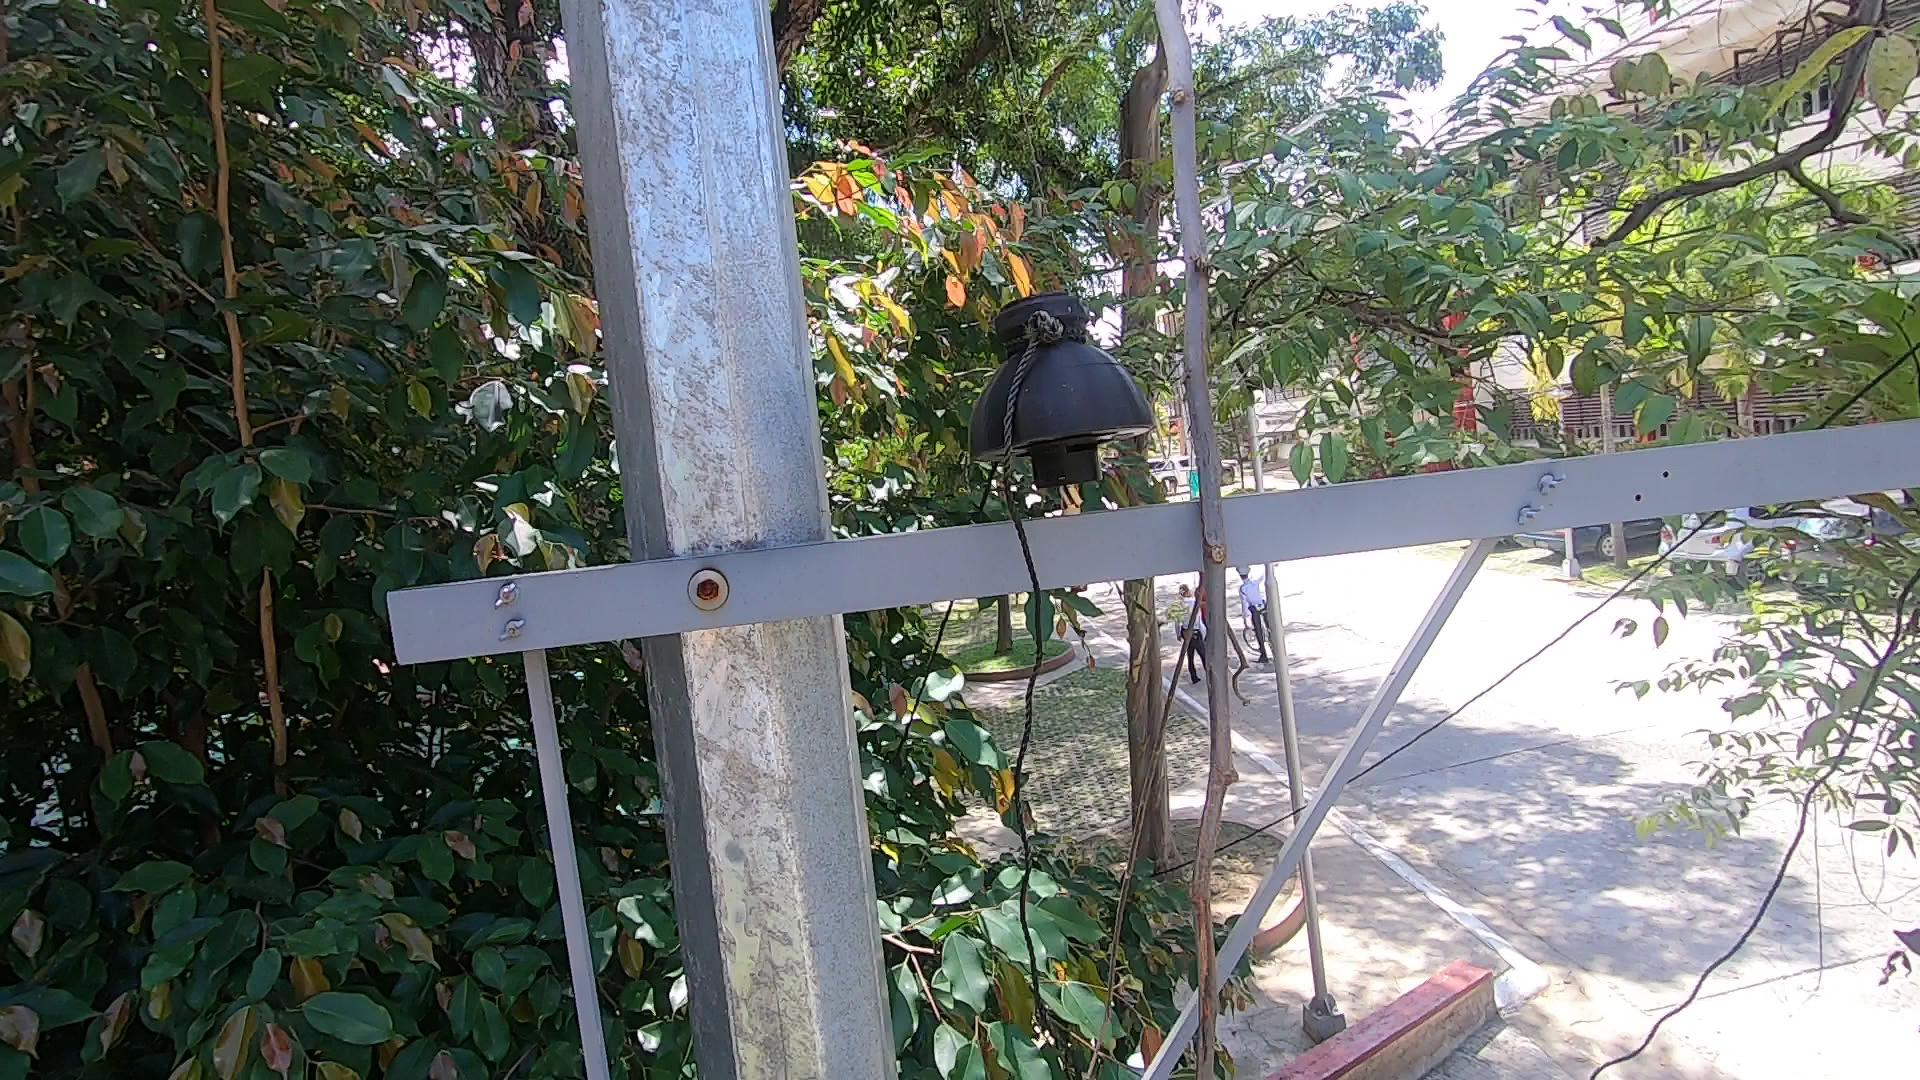tree branch: (1067, 5, 1333, 1069)
